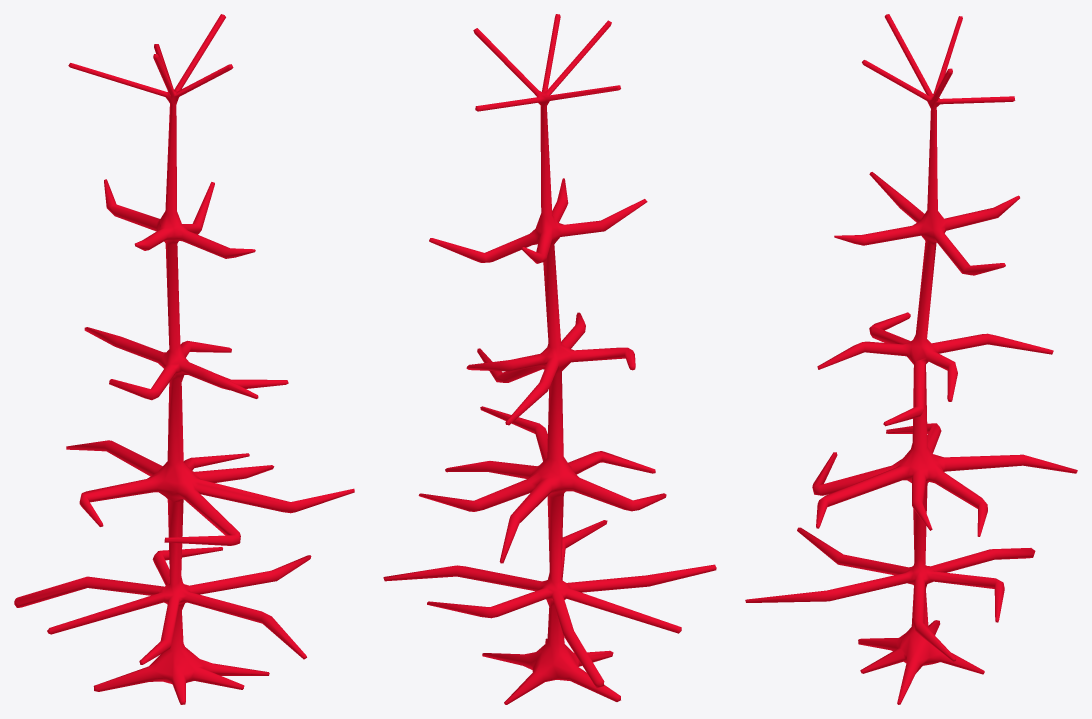
Rendered from DecimatedBloodPlant.fbx.
3 renders of one model, left to right at view 1: azimuth 30°, elevation 25°; view 2: azimuth 150°, elevation 25°; view 3: azimuth 270°, elevation 25°, orthographic. The views are drawn at different scales.
Parts seen in each view (by area): view 1: Plane; view 2: Plane; view 3: Plane.
Part boxes in pixels (x1,y1,x2,y2): Plane: (14,14,354,704); Plane: (383,14,716,704); Plane: (745,14,1077,704).
Bounding box in the file's own units: 1256 × 2818 × 1338.
